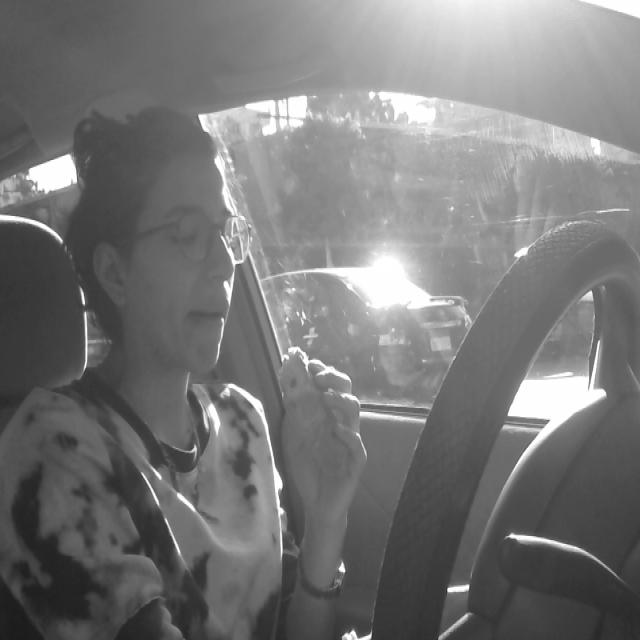eating: (270, 338, 358, 480)
